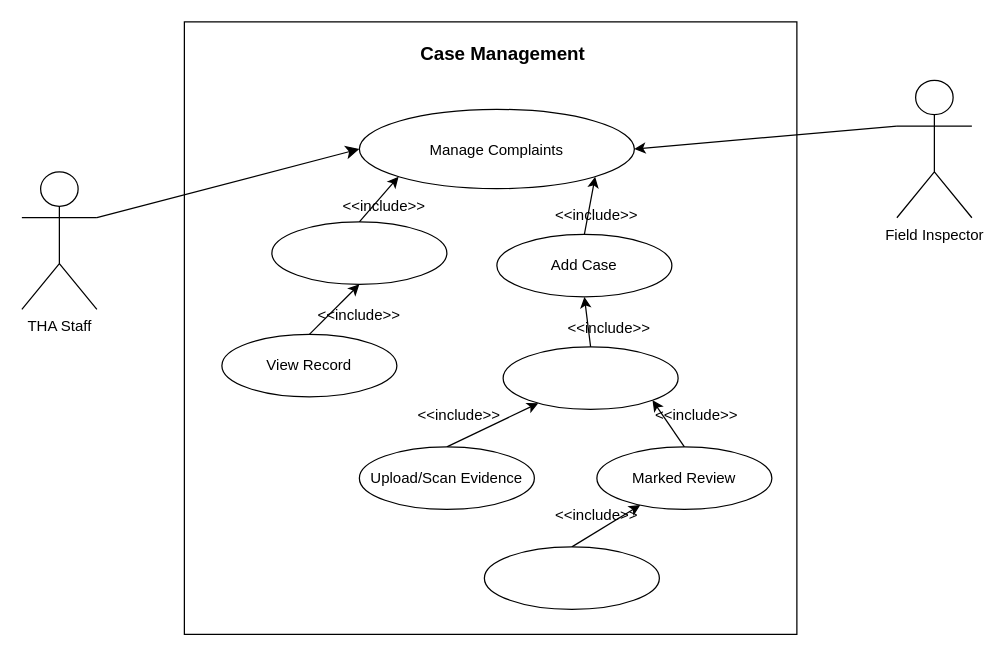
This 1005x656 diagram has some shape labels left out. Here are the shapes that lost their labels. From the top down, the centre of each, then its label:
(359,252): Log Settled Incident
(590,377): Open Record
(571,577): Upload/Scan Supporting Evidence
